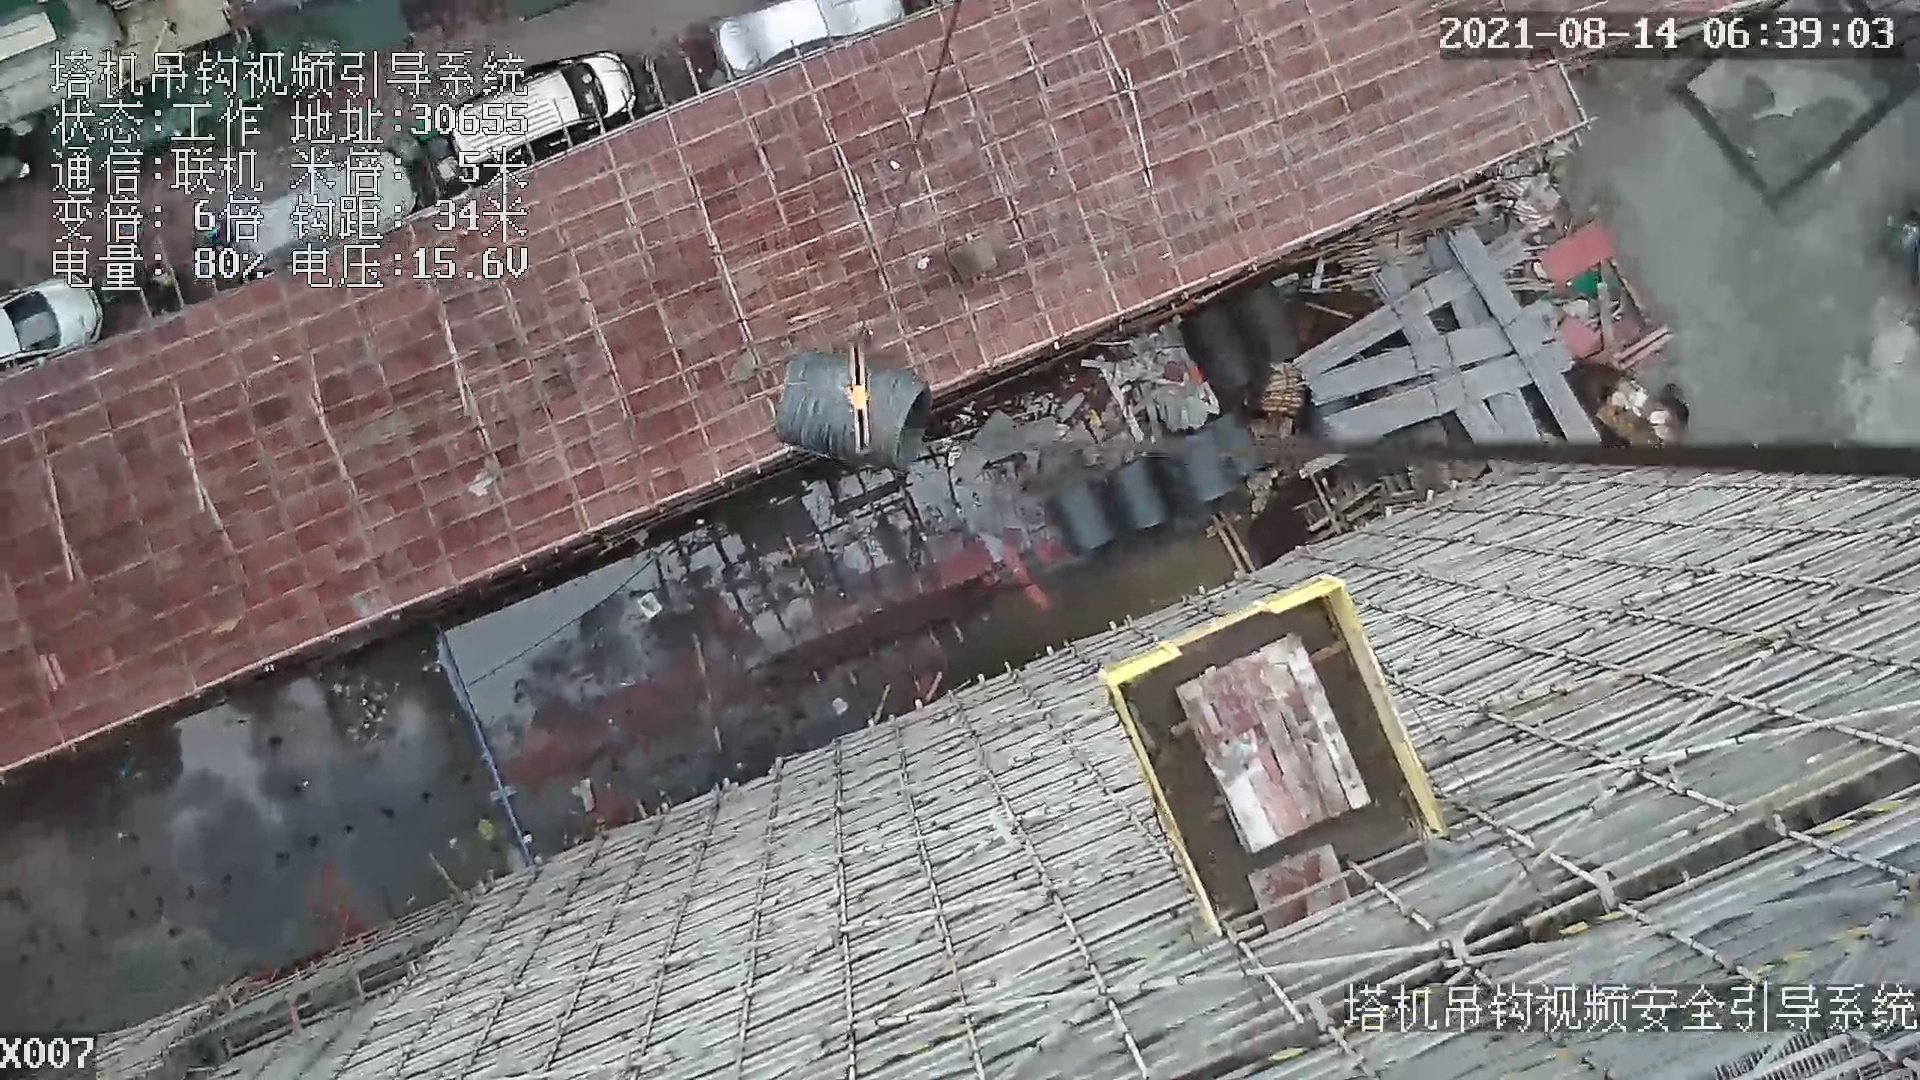hook: (840, 342, 877, 454)
